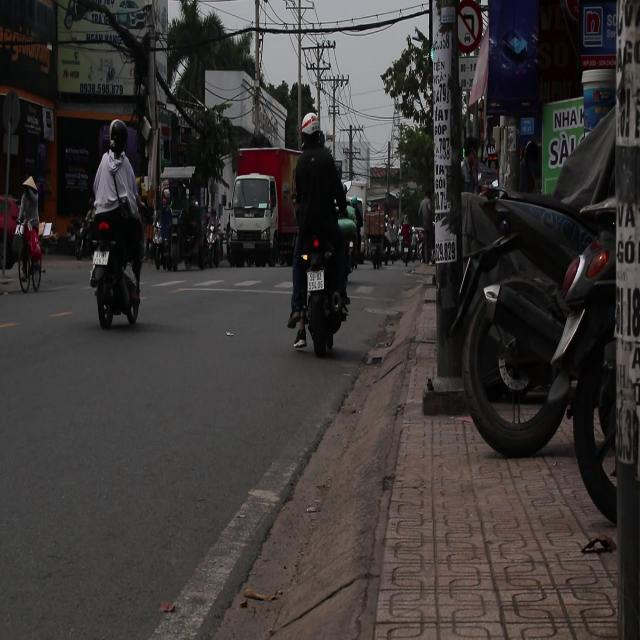motorbike: (292, 218, 356, 365), (90, 218, 144, 330), (148, 186, 204, 282), (368, 216, 400, 292), (200, 208, 221, 281)
truck: (230, 151, 296, 270)
